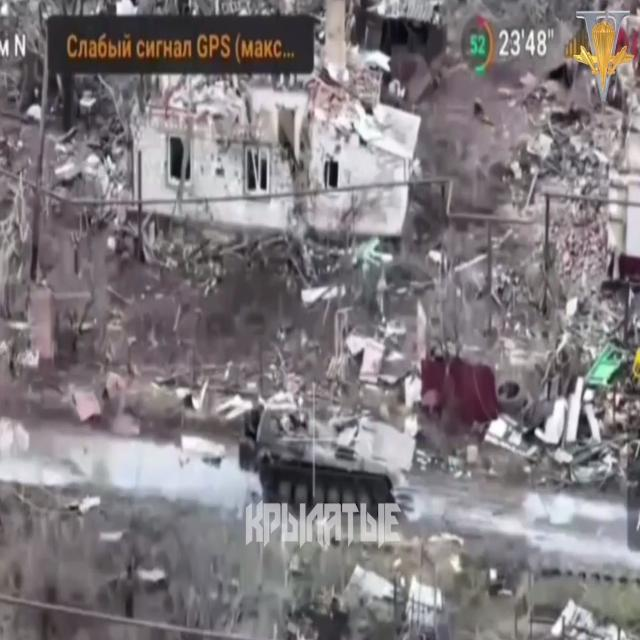fortification: (76, 0, 427, 264), (486, 80, 640, 515)
vehicle: (235, 377, 431, 556)
